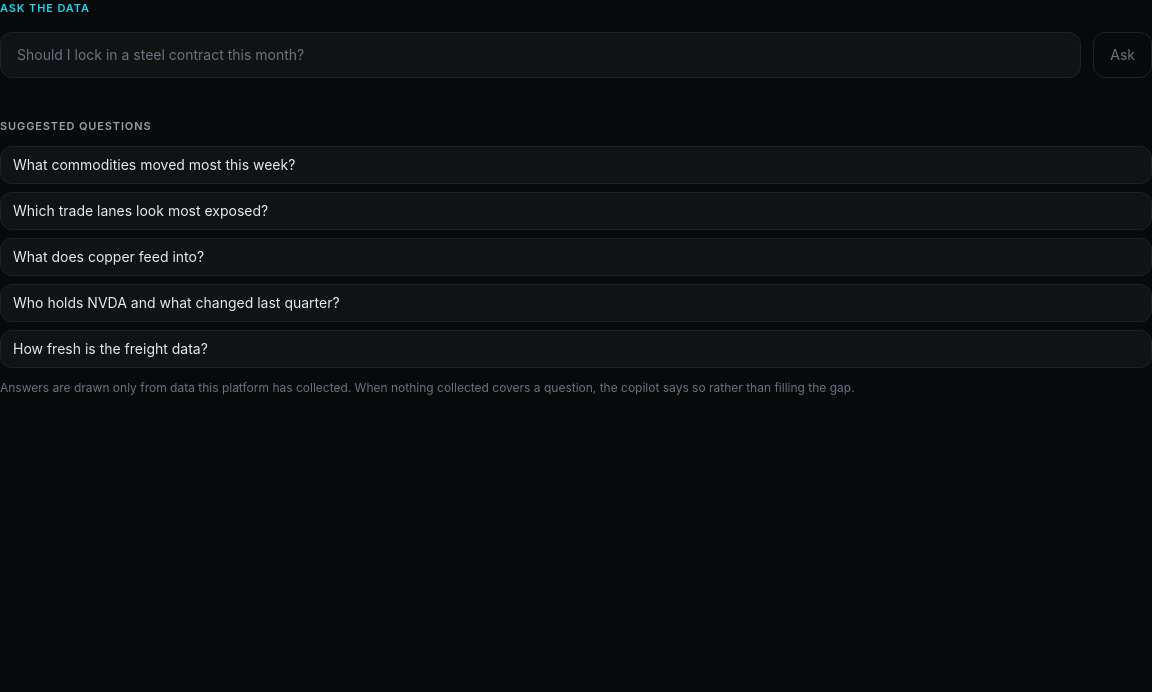
CopilotConversation › keeps the earlier turns when a later question fails
Type "first question" into the field named "Your question". click: [541, 55]
box: x1=0 y1=32 x2=1081 y2=78
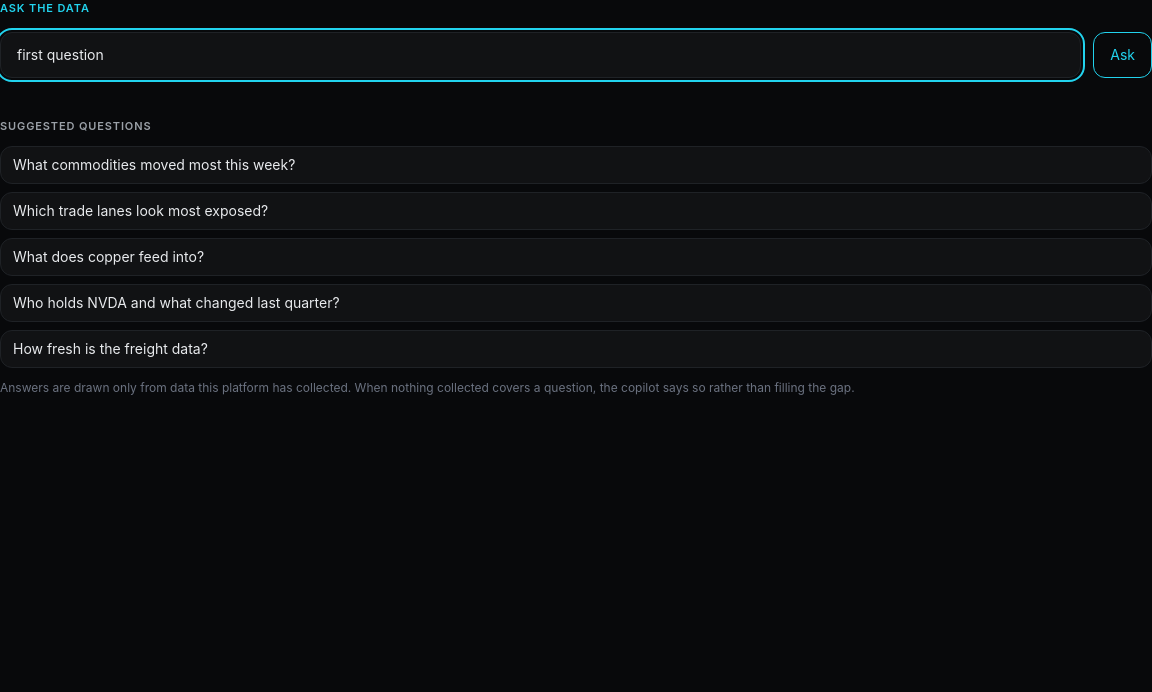
Click the button "Ask". click: [1123, 55]
box: x1=1093 y1=32 x2=1151 y2=78
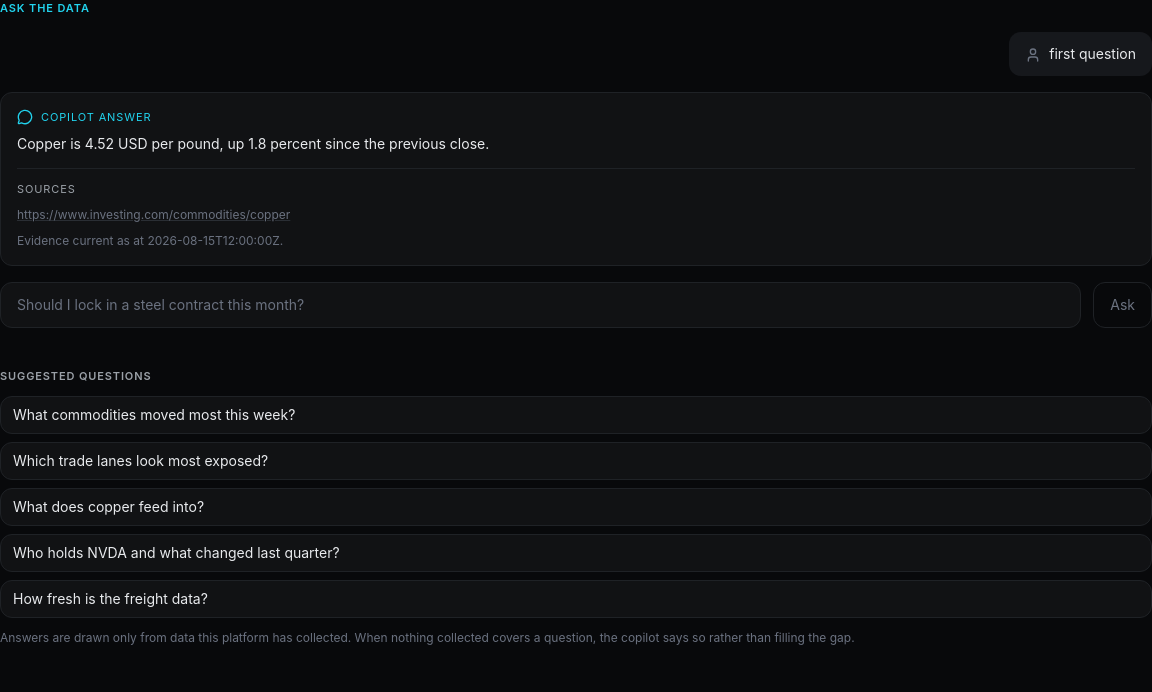
Expected: the text "Copper is 4.52" is shown, x1=17 y1=135 x2=489 y2=152
Type "second question" into the field named "Your question". click: [541, 305]
box: x1=0 y1=282 x2=1081 y2=328
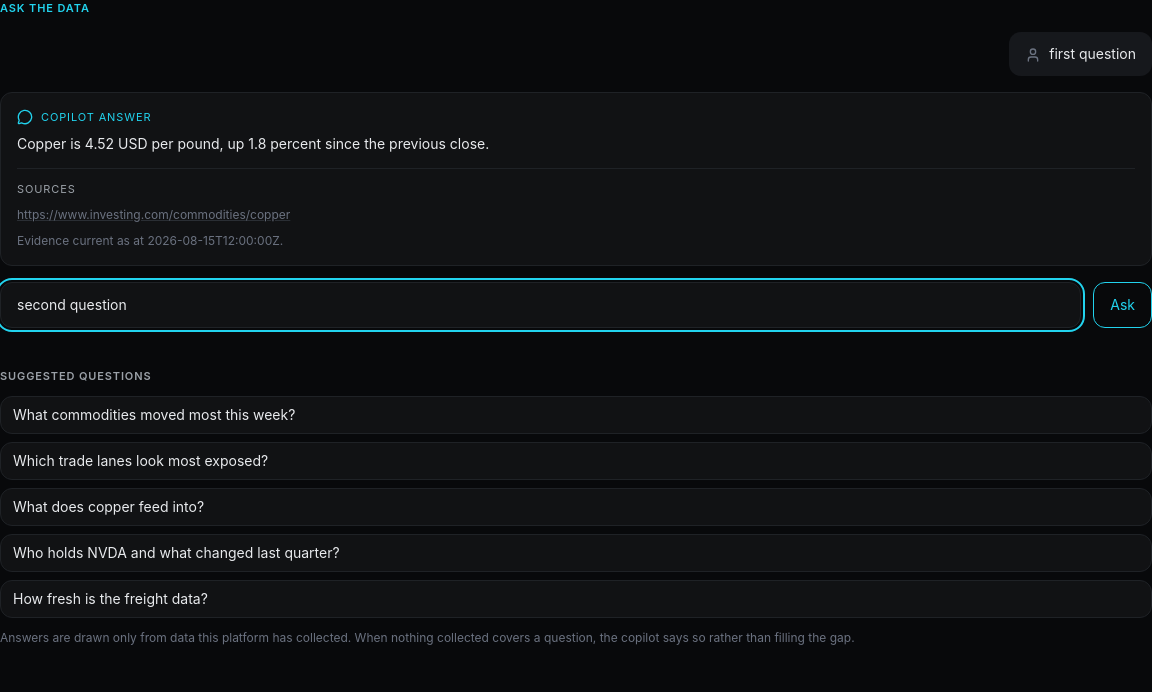
Click the button "Ask". click: [1123, 305]
box: x1=1093 y1=282 x2=1151 y2=328
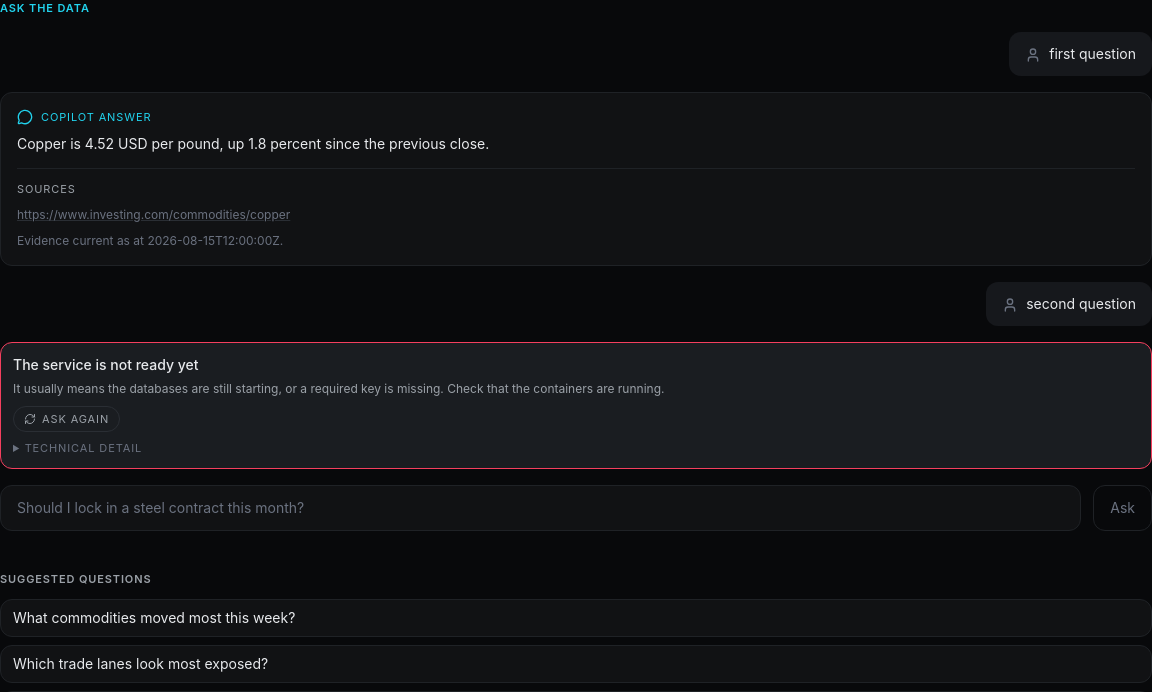
Expected: the text "Copper is 4.52" is shown, x1=17 y1=135 x2=489 y2=152
Expected: the message is shown, x1=0 y1=342 x2=1151 y2=469
